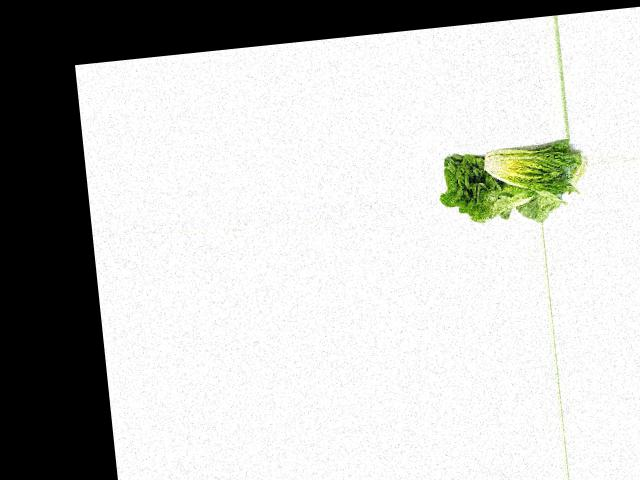lettuce: (438, 142, 533, 226)
